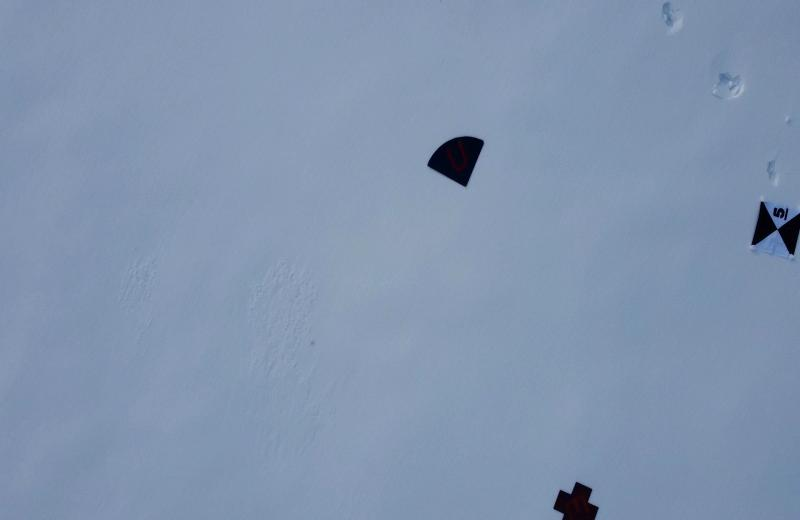Cross: (552, 480, 598, 519)
Quarter Circle: (428, 132, 484, 188)
